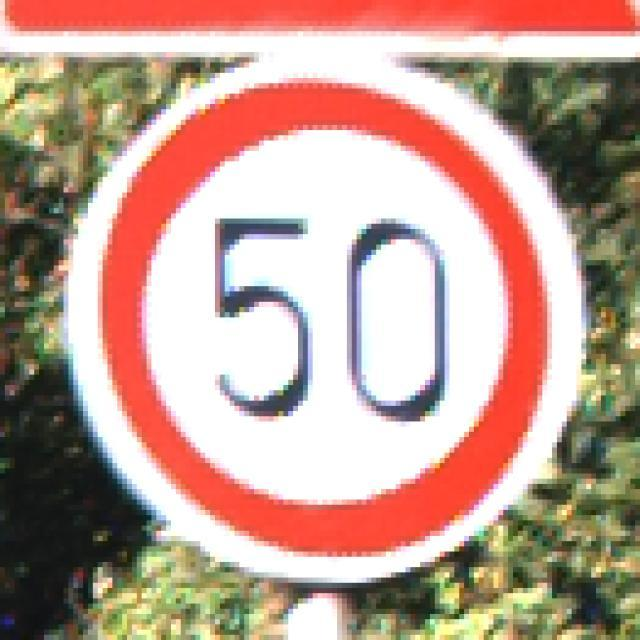speed limit 50: (67, 57, 586, 582)
